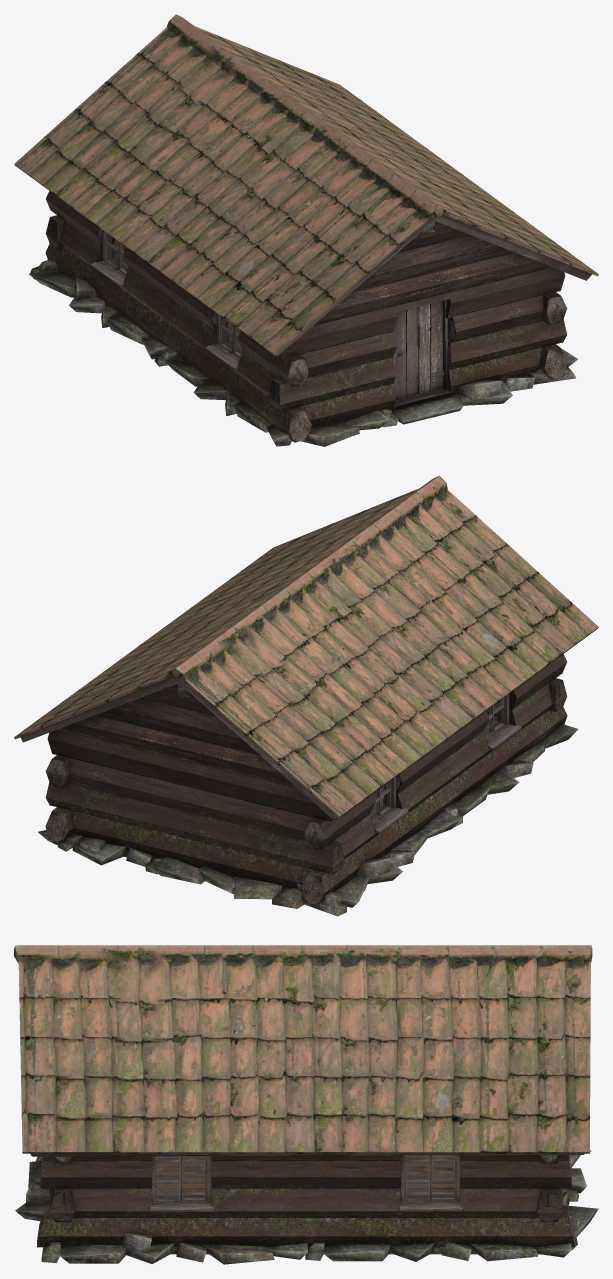
Rendered from retro_low-poly_wooden_house.glb.
3 views of the same model, one above another, from view 1: azimuth 30°, elevation 25°; view 2: azimuth 150°, elevation 25°; view 3: azimuth 270°, elevation 25° (orthographic). The views are drawn at different scales.
Parts seen in each view (by area): view 1: Roof_2, House_12, StoneFoundation_3, Door_0, Doorway_1, Window2_7, Window1_5; view 2: Roof_2, House_12, StoneFoundation_3, Window1_5, Window2_7; view 3: Roof_2, House_12, StoneFoundation_3, Window4_10, Window3_8, WindowPanels3_11, WindowPanels4_9.
Part boxes in pixels (x1,y1,x2,y2): Roof_2: (14, 14, 598, 355); House_12: (45, 191, 567, 442); StoneFoundation_3: (29, 259, 577, 446); Door_0: (394, 301, 444, 399); Doorway_1: (391, 299, 453, 411); Window2_7: (90, 230, 127, 287); Window1_5: (205, 314, 242, 370); Roof_2: (14, 475, 598, 818); House_12: (45, 654, 567, 905); StoneFoundation_3: (38, 724, 578, 916); Window1_5: (484, 694, 521, 750); Window2_7: (370, 777, 408, 833); Roof_2: (14, 945, 592, 1156); House_12: (37, 1155, 575, 1254); StoneFoundation_3: (15, 1150, 598, 1264); Window4_10: (150, 1156, 213, 1212); Window3_8: (399, 1155, 463, 1211); WindowPanels3_11: (406, 1155, 454, 1199); WindowPanels4_9: (157, 1156, 205, 1199).
Bounding box in the file's own units: 7.72 × 4.84 × 10.83.
Materials: 6 (6 with a texture image).
